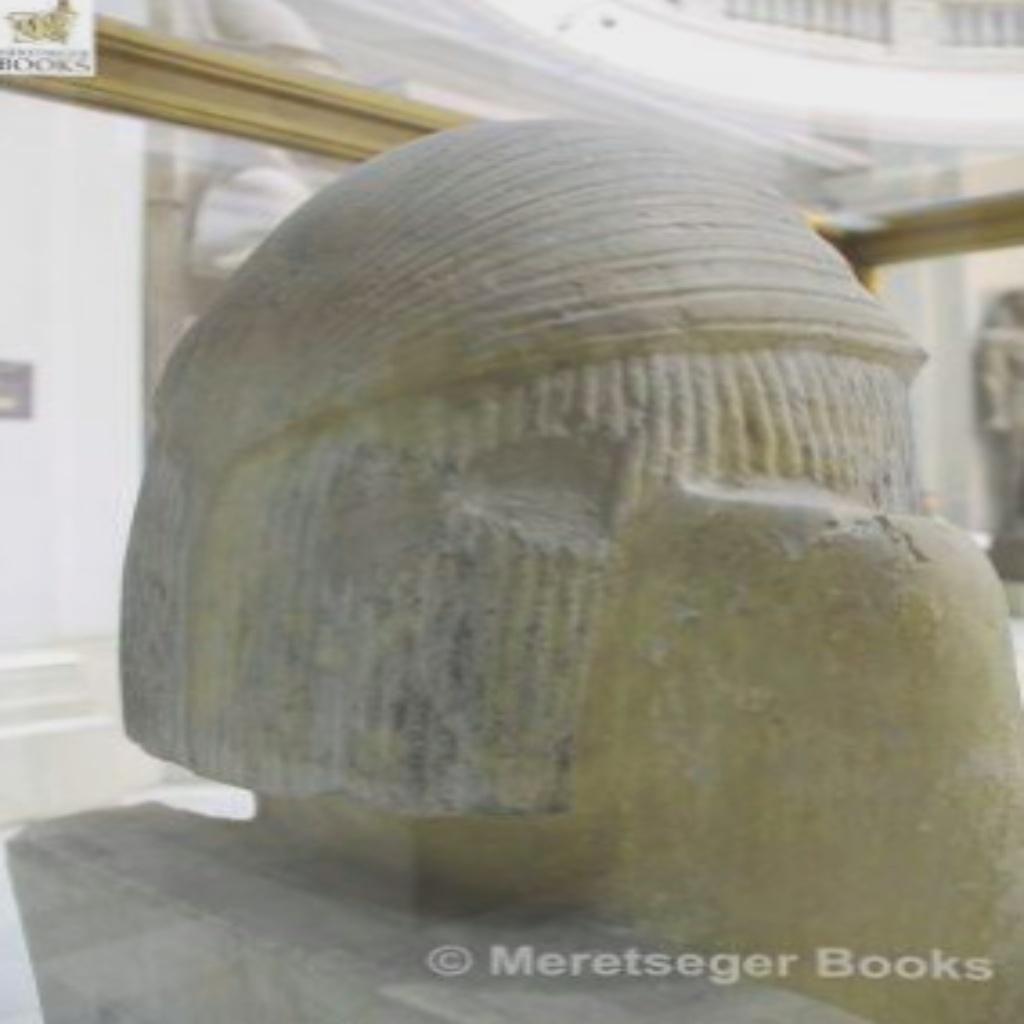Statue of King Zoser: (0, 108, 1020, 1022)
